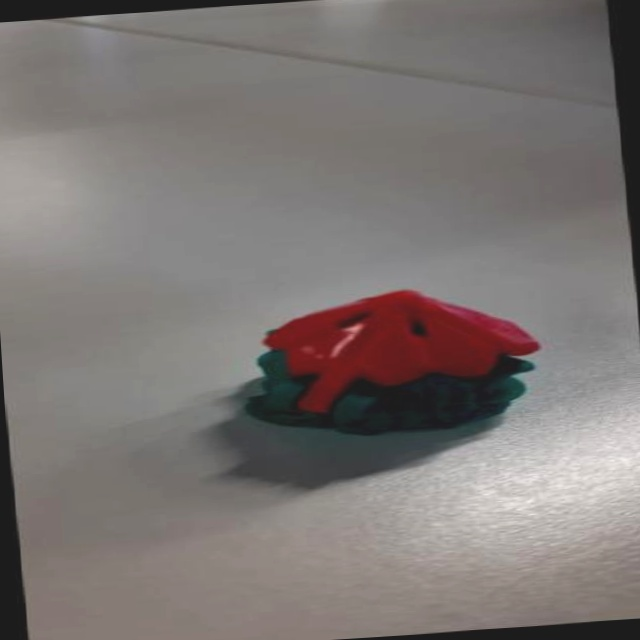House: (227, 279, 550, 444)
